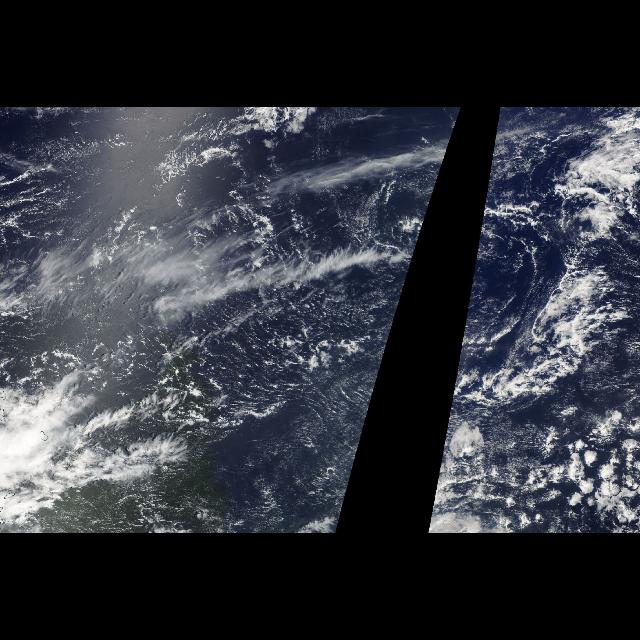Flower: (519, 410, 639, 530)
Sugar: (188, 189, 398, 533)
